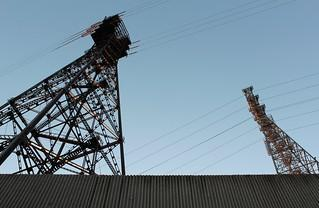power_tower: (0, 11, 143, 177), (243, 83, 319, 181)
